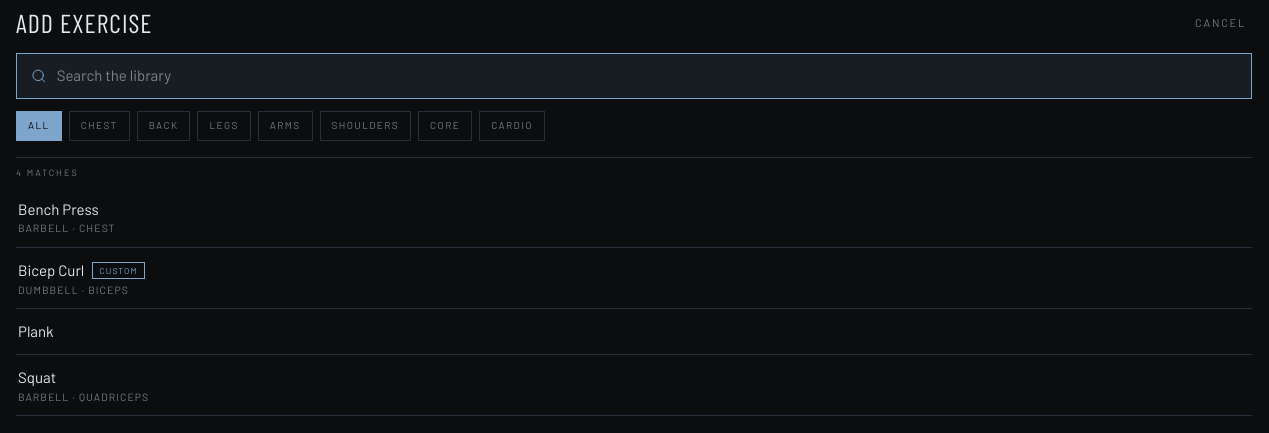
Test: ExercisePicker › muscle group chips › combine with search
Expected: the text "4 matches" is shown, [16,156,1252,186]
Step 1. Click the button "Chest" → (99, 126), box [69,111,130,140]
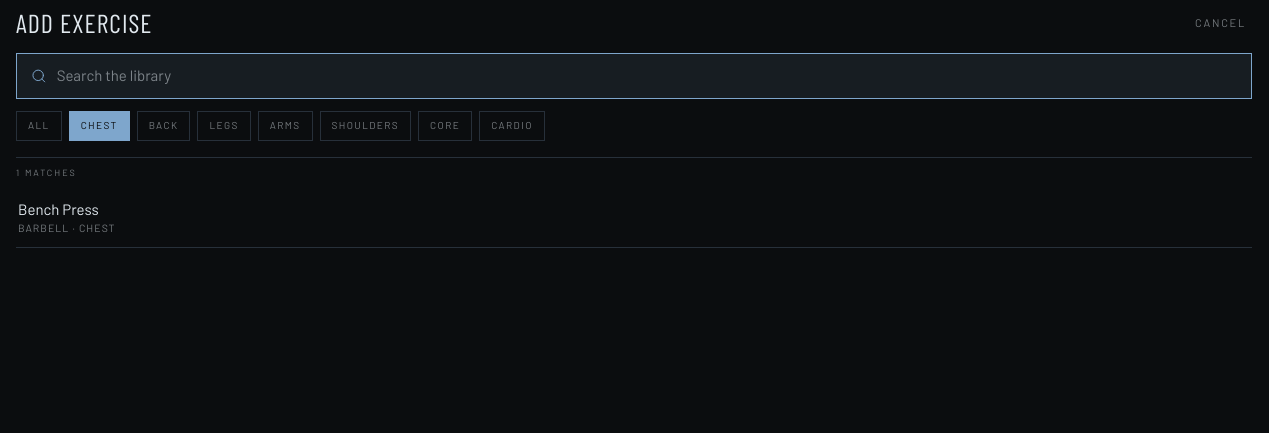
Step 2. Type "squat" into the field with placeholder "Search the library" → (647, 76), box [57,64,1237,88]
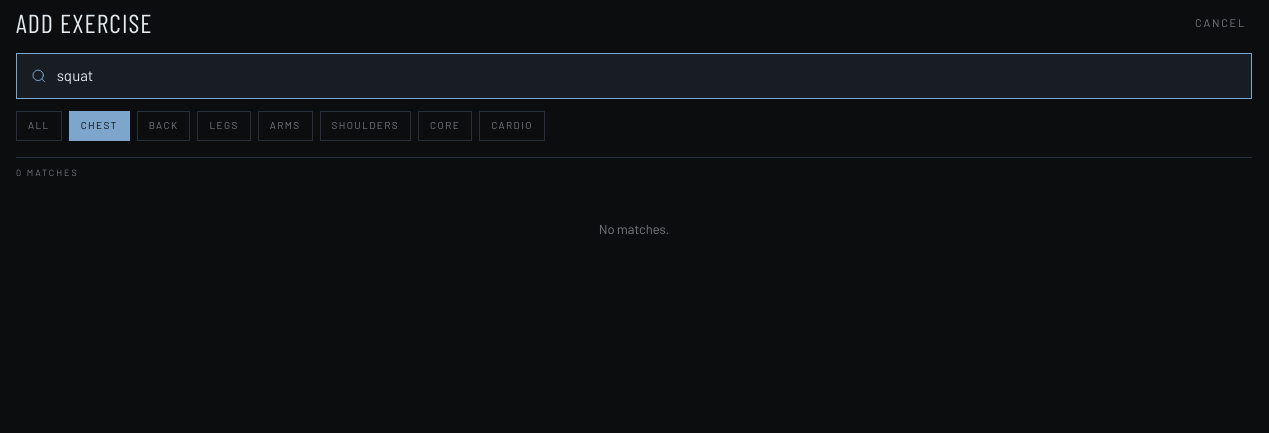
Expected: the text "No matches." is shown, [599,220,669,236]
